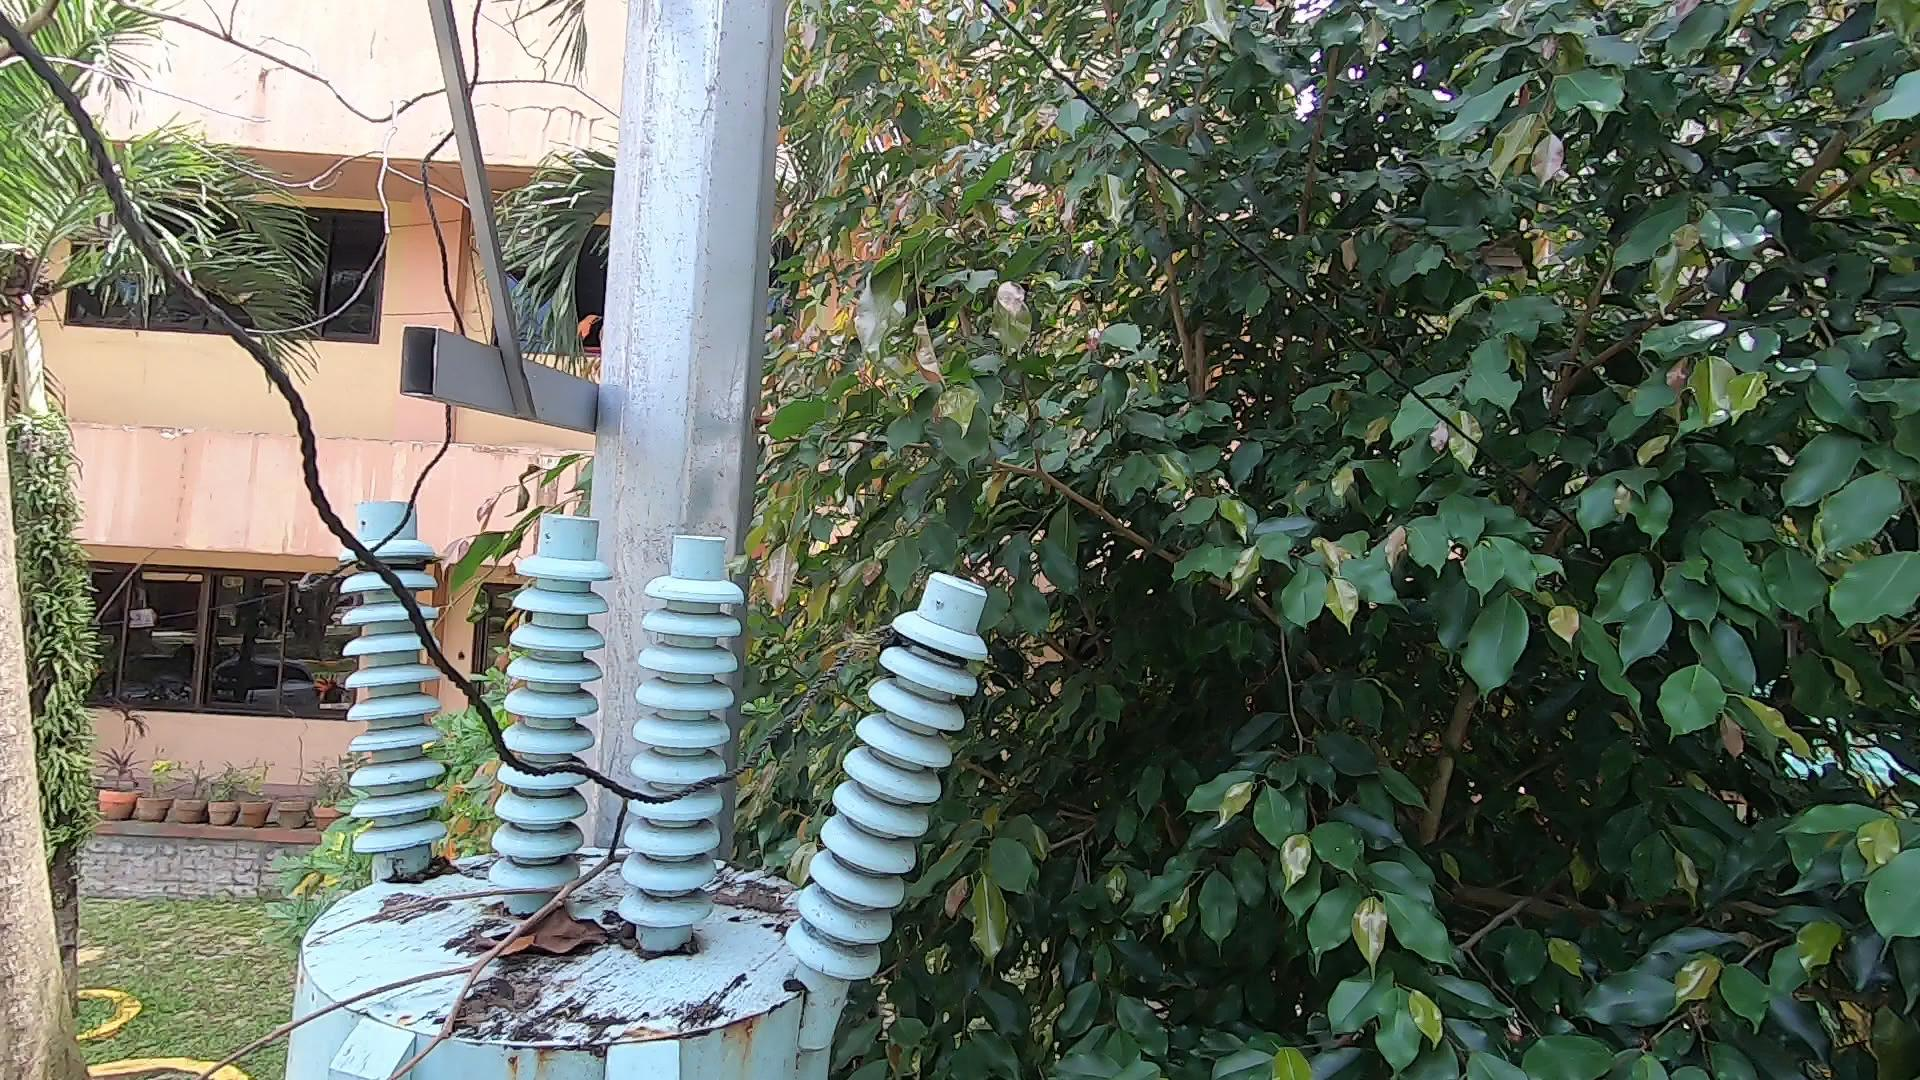leaf: (467, 893, 638, 969), (715, 860, 804, 938), (377, 847, 463, 885)
tree branch: (175, 825, 690, 1080)
